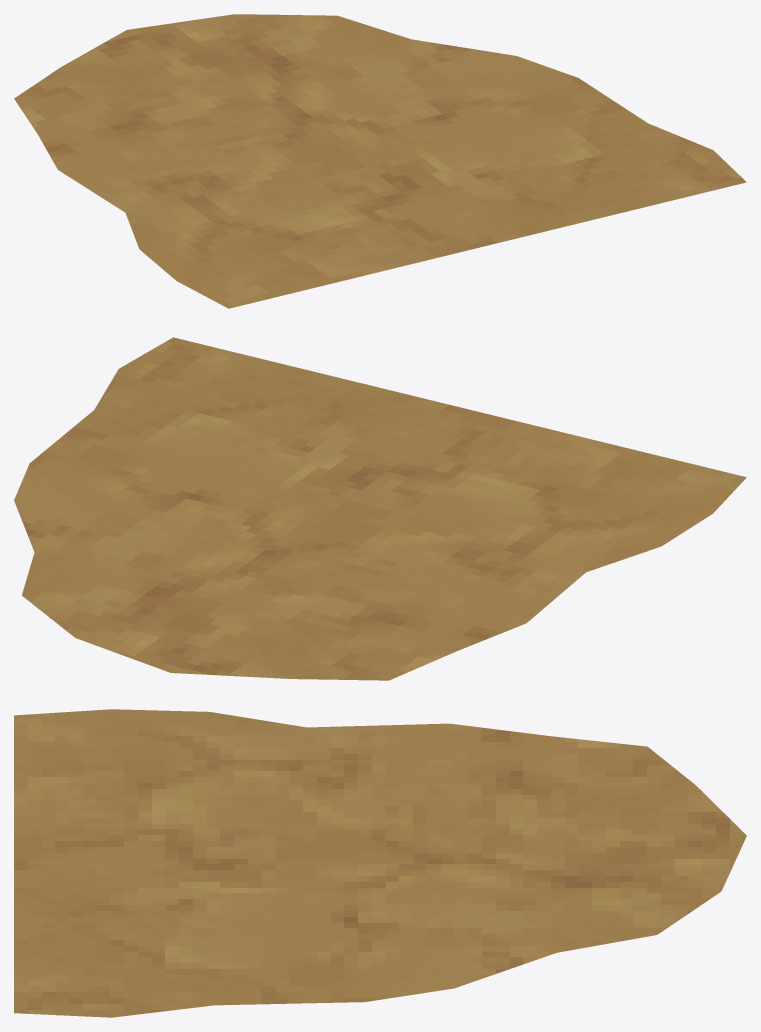
Rendered from Dirt Edge.fbx.
The picture shows the model from 3 angles, top to bottom: view 1: azimuth 30°, elevation 25°; view 2: azimuth 150°, elevation 25°; view 3: azimuth 270°, elevation 25°; orthographic projection. The views are drawn at different scales.
Parts seen in each view (by area): view 1: Dirt_Edge; view 2: Dirt_Edge; view 3: Dirt_Edge.
Part boxes in pixels (<box>): Dirt_Edge: <box>14,14,746,308</box>; Dirt_Edge: <box>14,337,746,680</box>; Dirt_Edge: <box>14,709,746,1017</box>.
Size of the model in its own units: 0.8285 by 0 by 0.8321.
